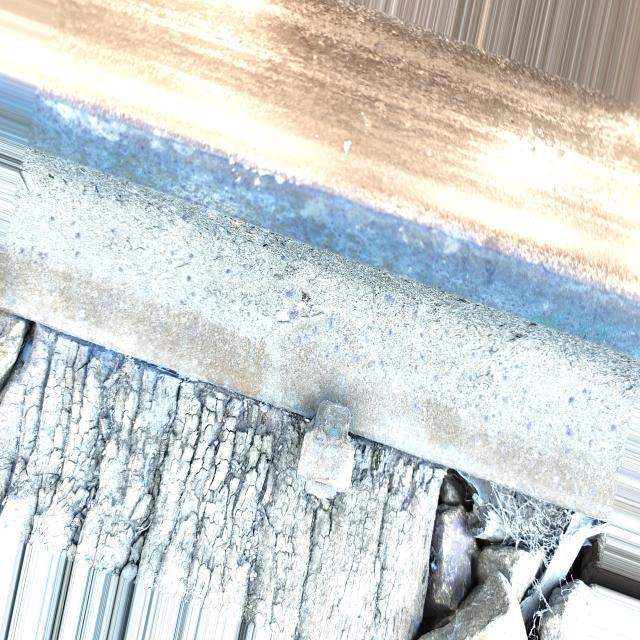Good Fasteners: (298, 401, 355, 498)
